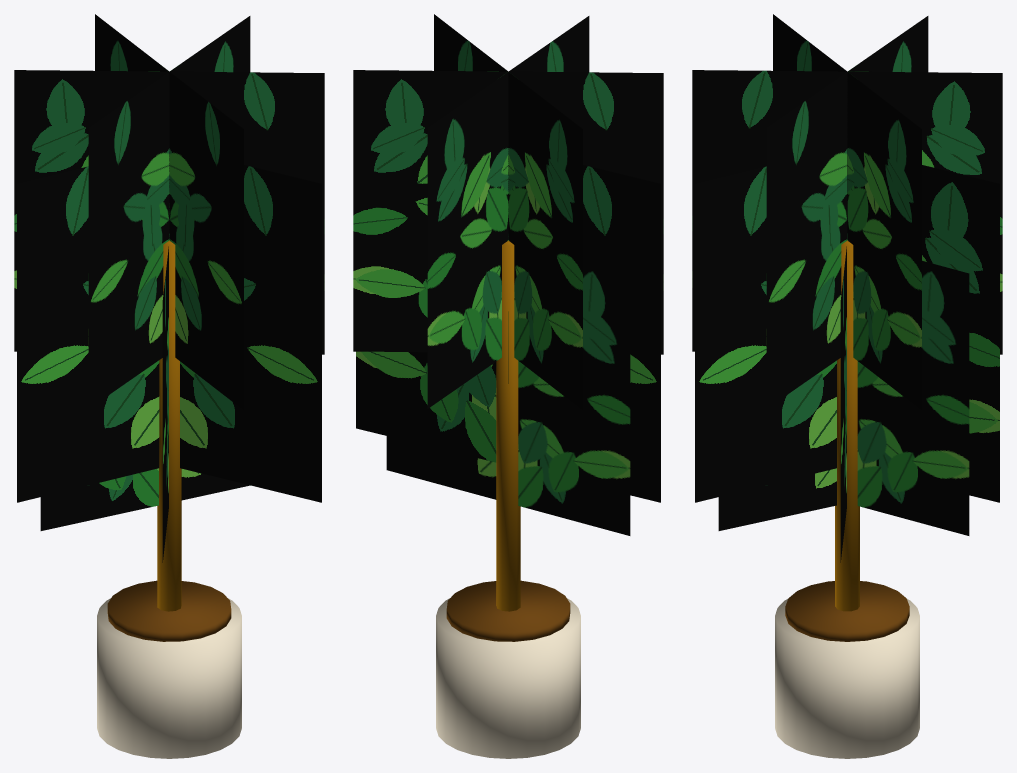
Rendered from plant_ficus.glb.
The picture shows the model from 3 angles, left to right: view 1: azimuth 30°, elevation 25°; view 2: azimuth 150°, elevation 25°; view 3: azimuth 270°, elevation 25°; orthographic projection.
Parts seen in each view (by area): view 1: Plane.002, Plane, Plane.003, Plane.004, Plane.005, Cylinder, Cylinder.002, Cylinder.001, Plane.008, Plane.006; view 2: Plane.003, Plane, Plane.008, Plane.004, Plane.005, Cylinder, Cylinder.002, Cylinder.001; view 3: Plane.002, Plane.005, Plane.003, Plane.004, Plane.006, Cylinder, Plane.001, Cylinder.002, Cylinder.001, Plane.007, Plane.008.
Boxes of the visible parts, left/top/right/bottom form: Plane.002: left=180, top=165, right=321, bottom=502; Plane: left=17, top=147, right=169, bottom=502; Plane.003: left=88, top=16, right=250, bottom=408; Plane.004: left=95, top=14, right=243, bottom=410; Plane.005: left=14, top=70, right=324, bottom=354; Cylinder: left=97, top=598, right=241, bottom=758; Cylinder.002: left=157, top=240, right=181, bottom=611; Cylinder.001: left=107, top=580, right=231, bottom=641; Plane.008: left=40, top=468, right=250, bottom=530; Plane.006: left=162, top=246, right=168, bottom=562; Plane.003: left=353, top=70, right=663, bottom=354; Plane: left=356, top=147, right=660, bottom=502; Plane.008: left=386, top=260, right=630, bottom=535; Plane.004: left=427, top=16, right=589, bottom=408; Plane.005: left=434, top=14, right=582, bottom=410; Cylinder: left=436, top=598, right=580, bottom=758; Cylinder.002: left=496, top=240, right=520, bottom=611; Cylinder.001: left=446, top=580, right=570, bottom=641; Plane.002: left=695, top=166, right=836, bottom=502; Plane.005: left=766, top=16, right=928, bottom=408; Plane.003: left=773, top=14, right=921, bottom=410; Plane.004: left=692, top=70, right=1002, bottom=354; Plane.006: left=857, top=260, right=969, bottom=535; Cylinder: left=775, top=599, right=919, bottom=758; Plane.001: left=847, top=147, right=999, bottom=502; Cylinder.002: left=835, top=240, right=859, bottom=611; Cylinder.001: left=785, top=581, right=909, bottom=641; Plane.007: left=718, top=468, right=836, bottom=530; Plane.008: left=840, top=246, right=846, bottom=562.
Bounding box in the file's own units: 0.34 × 0.7 × 0.2999.
Materials: 4 (1 with a texture image).
